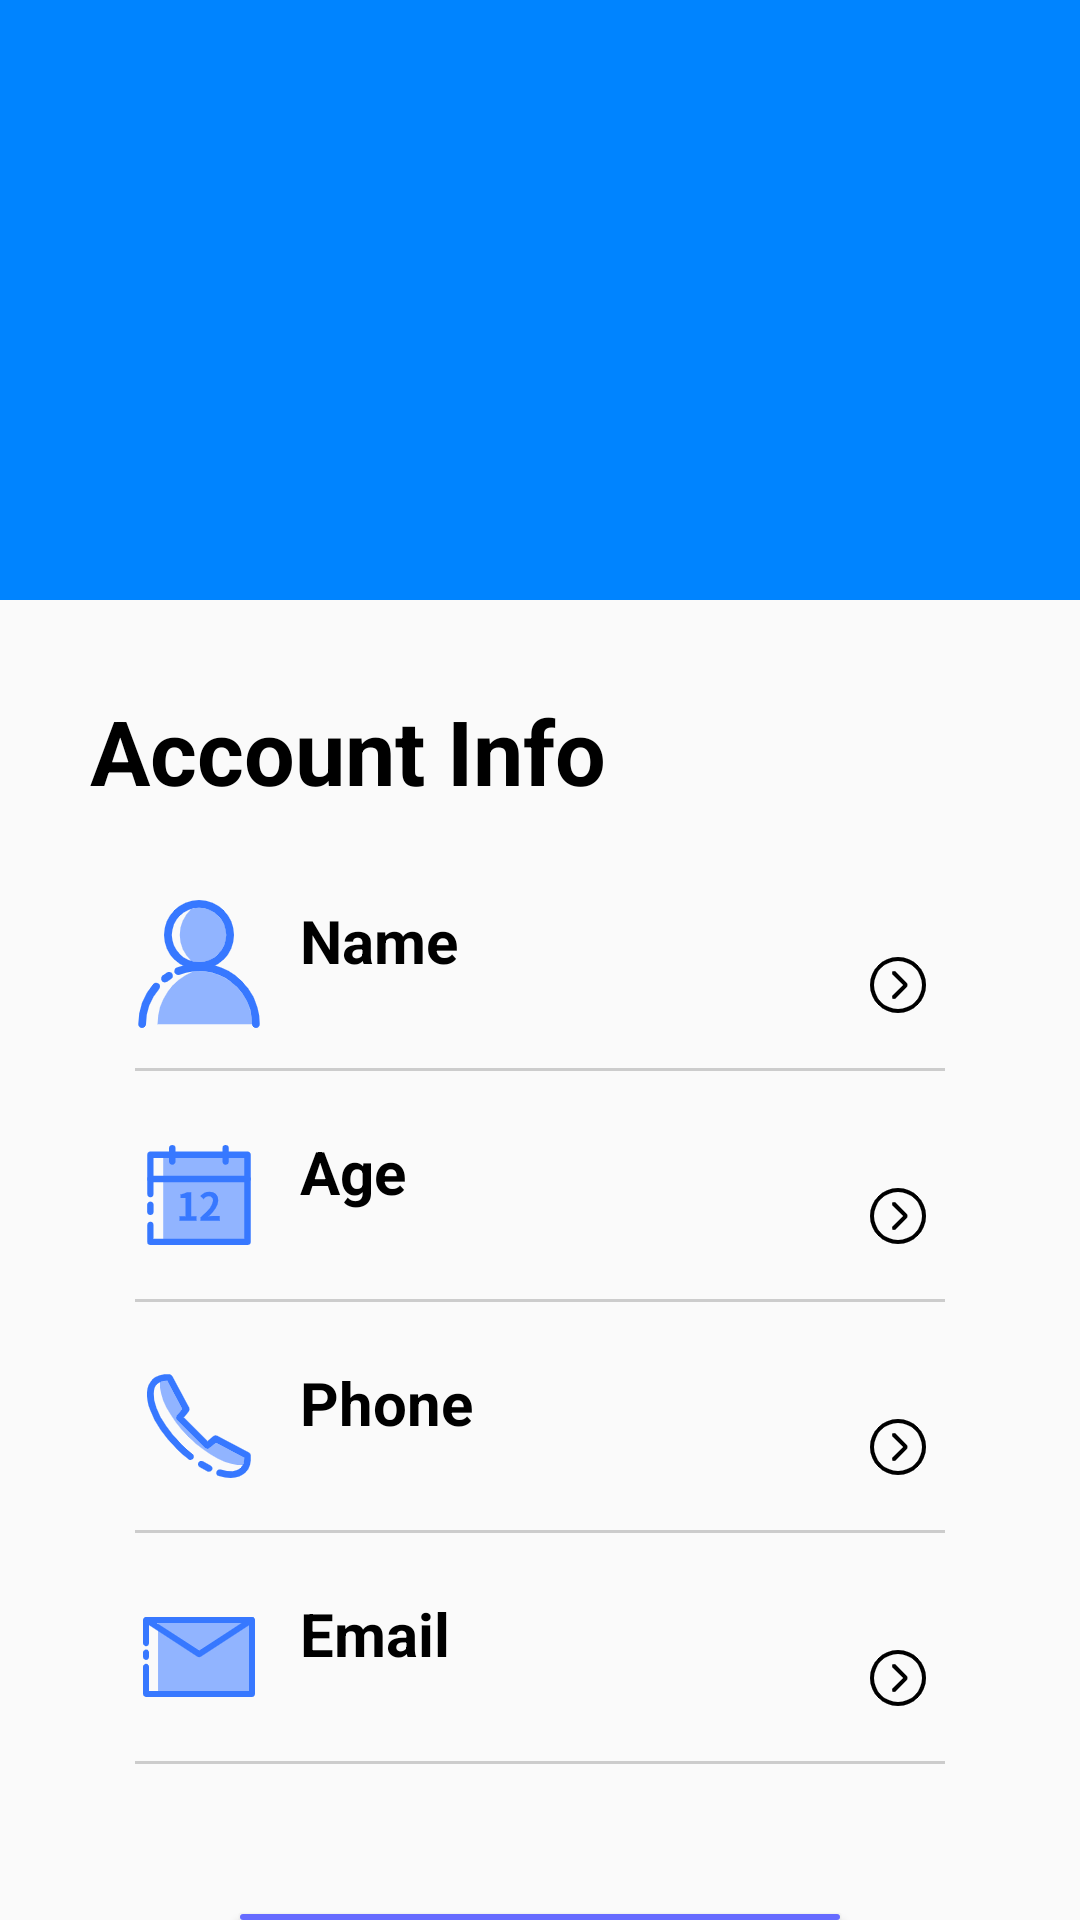

Icons on this 1080px x 1920px Android screen, each with the point to tap as [x,y]:
age in info: [199,1195]
